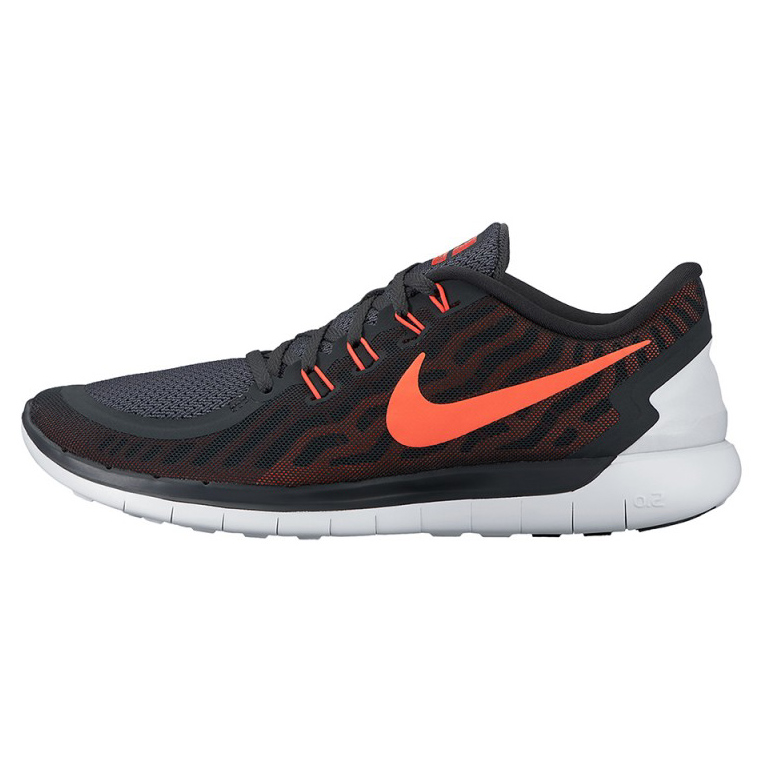Nike: (380, 335, 658, 456)
